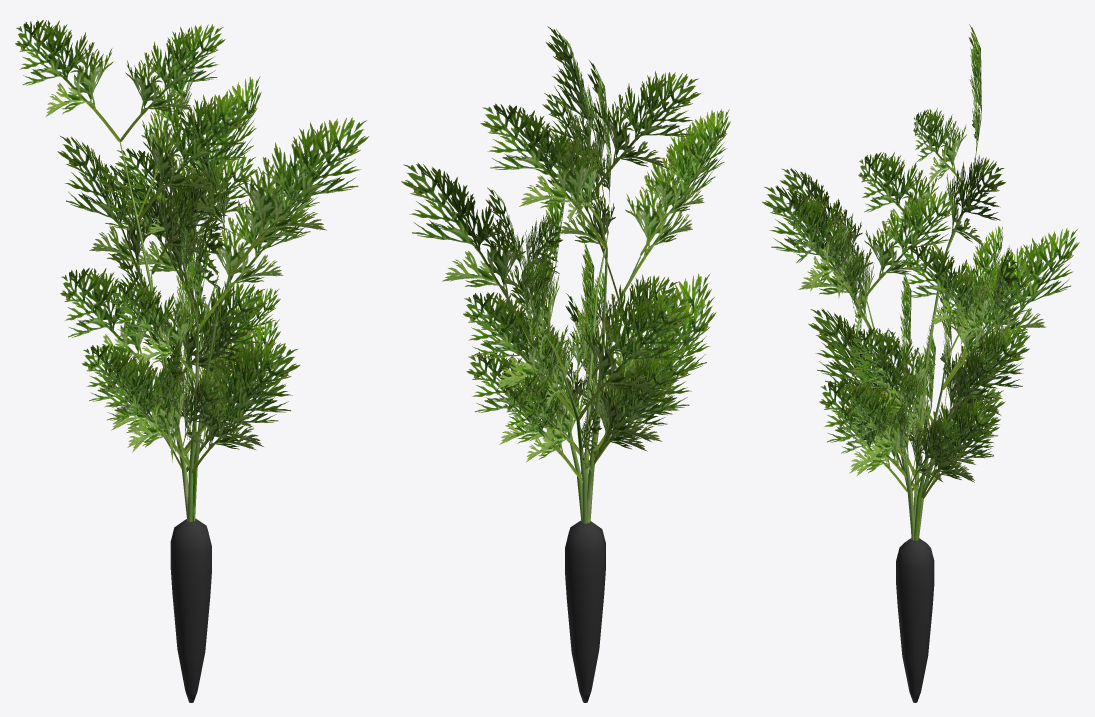
File: Karotte.fbx
The picture shows the model from 3 angles, left to right: view 1: azimuth 30°, elevation 25°; view 2: azimuth 150°, elevation 25°; view 3: azimuth 270°, elevation 25°; orthographic projection. The views are drawn at different scales.
Parts seen in each view (by area): view 1: Cylinder.064; view 2: Cylinder.064; view 3: Cylinder.064.
Boxes of the visible parts, x1,y1,x2,y2 form: Cylinder.064: (15,20,369,702); Cylinder.064: (401,26,730,702); Cylinder.064: (762,24,1079,702).
Bounding box in the file's own units: 38.31 × 91.95 × 42.86.
